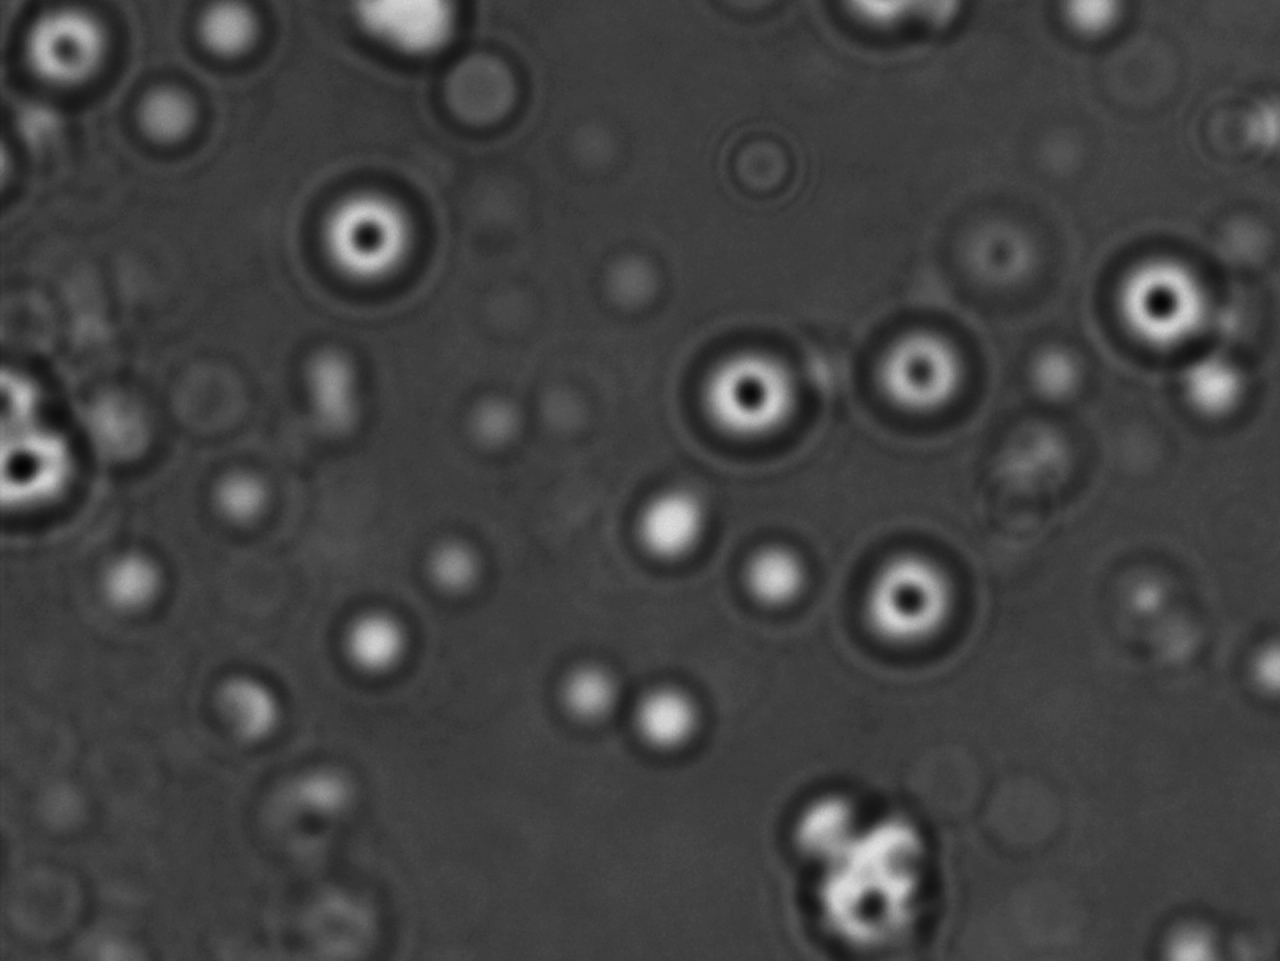depth:24: (290, 165, 446, 305), (846, 527, 989, 672), (670, 321, 812, 462), (1096, 239, 1235, 372)
